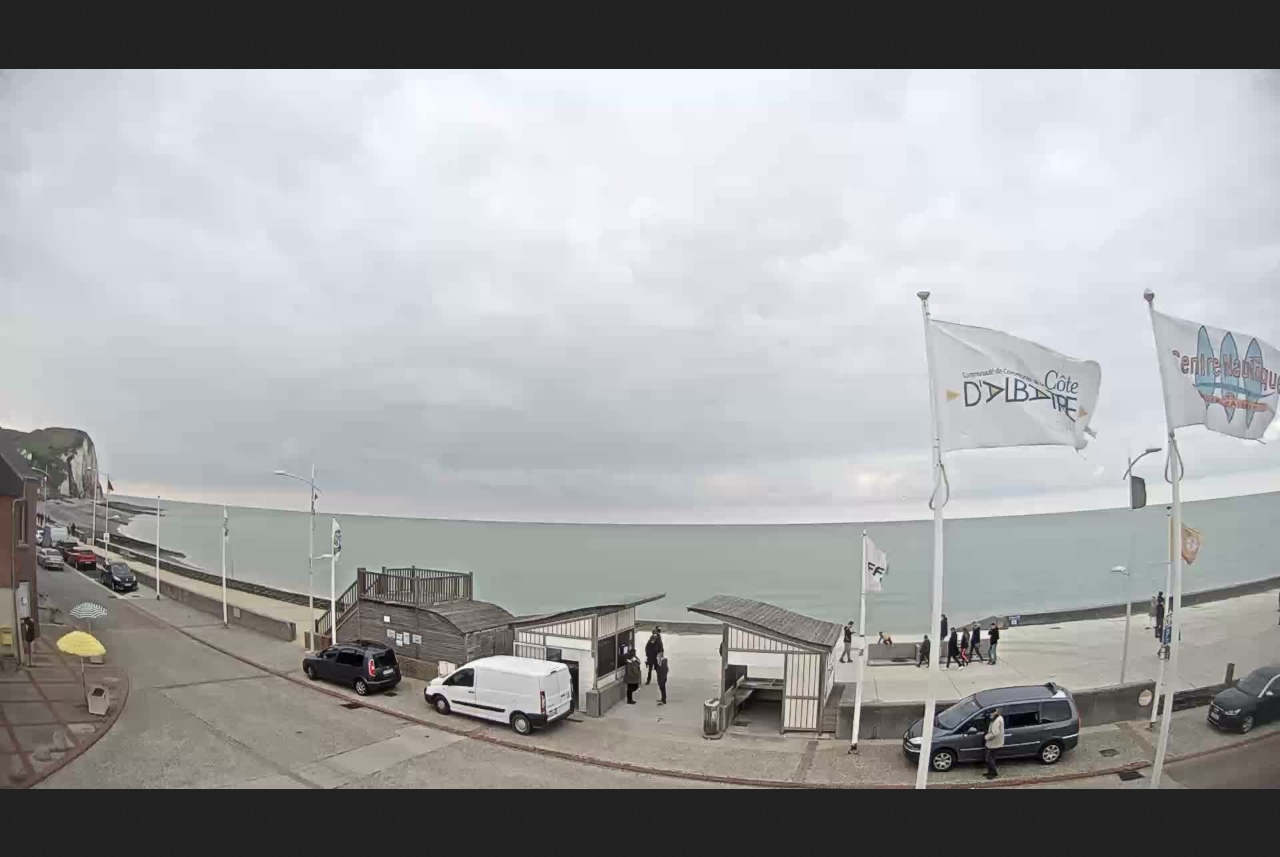maybe: (925, 321, 1103, 446), (1154, 316, 1280, 441)
